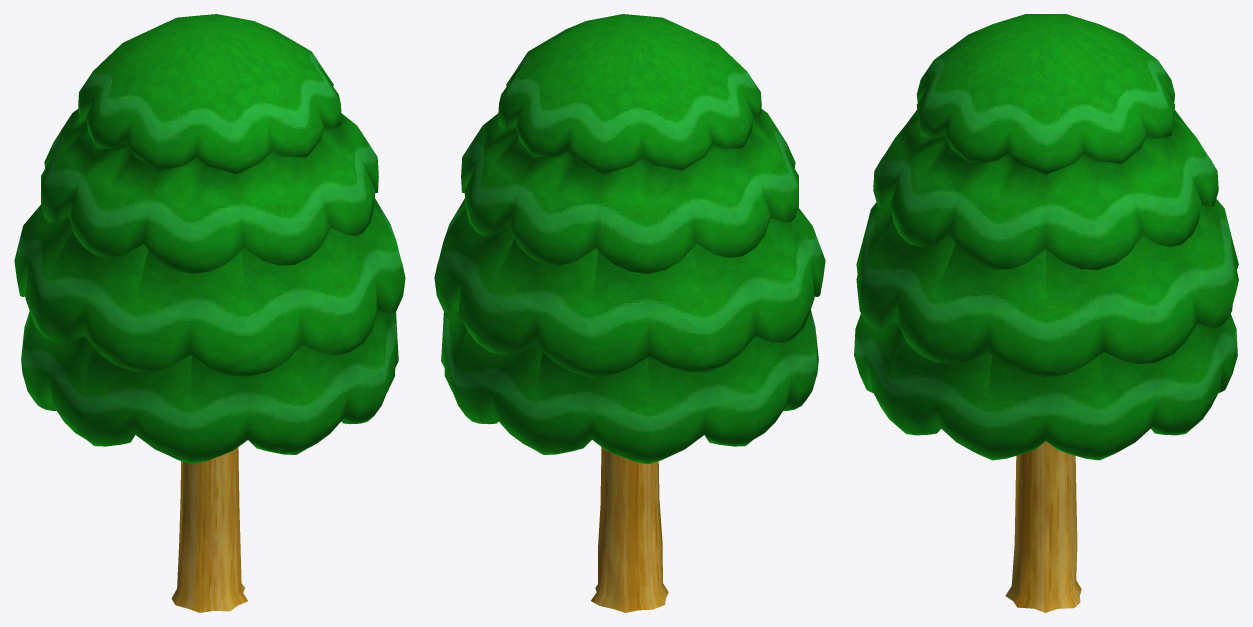
Rendered from treeobj.obj.
3 views of the same model, side by side, from view 1: azimuth 30°, elevation 25°; view 2: azimuth 150°, elevation 25°; view 3: azimuth 270°, elevation 25° (orthographic).
Parts seen in each view (by area): view 1: Hojas; view 2: Hojas; view 3: Hojas.
Part boxes in pixels (left/top/right/bottom): Hojas: left=14, top=14, right=405, bottom=612; Hojas: left=434, top=14, right=825, bottom=612; Hojas: left=854, top=14, right=1238, bottom=612.
Bounding box in the file's own units: 8.76 × 14 × 8.56.
2 materials, 2 textured.
